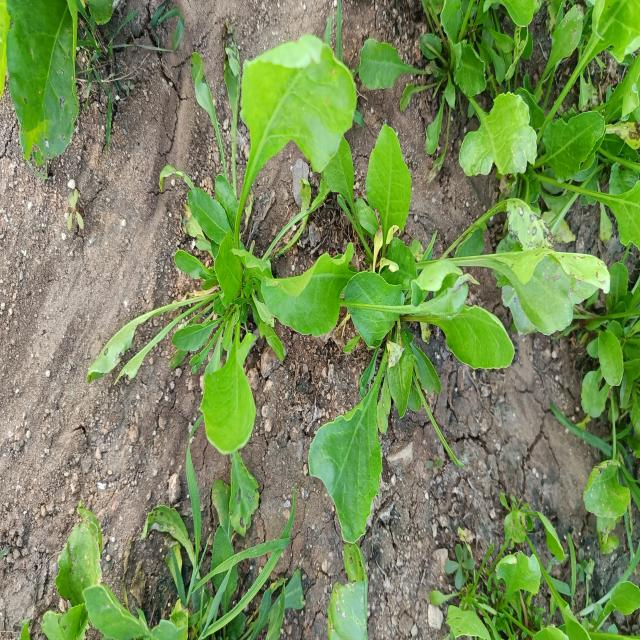leaves: (202, 24, 358, 312), (399, 237, 622, 359), (310, 347, 394, 558), (253, 238, 398, 355), (370, 286, 517, 395), (194, 255, 264, 479), (444, 60, 541, 188), (361, 127, 418, 280), (361, 14, 437, 110), (178, 168, 234, 263), (438, 26, 493, 111), (206, 233, 248, 312), (213, 153, 247, 244), (448, 30, 491, 94), (428, 84, 456, 154)
